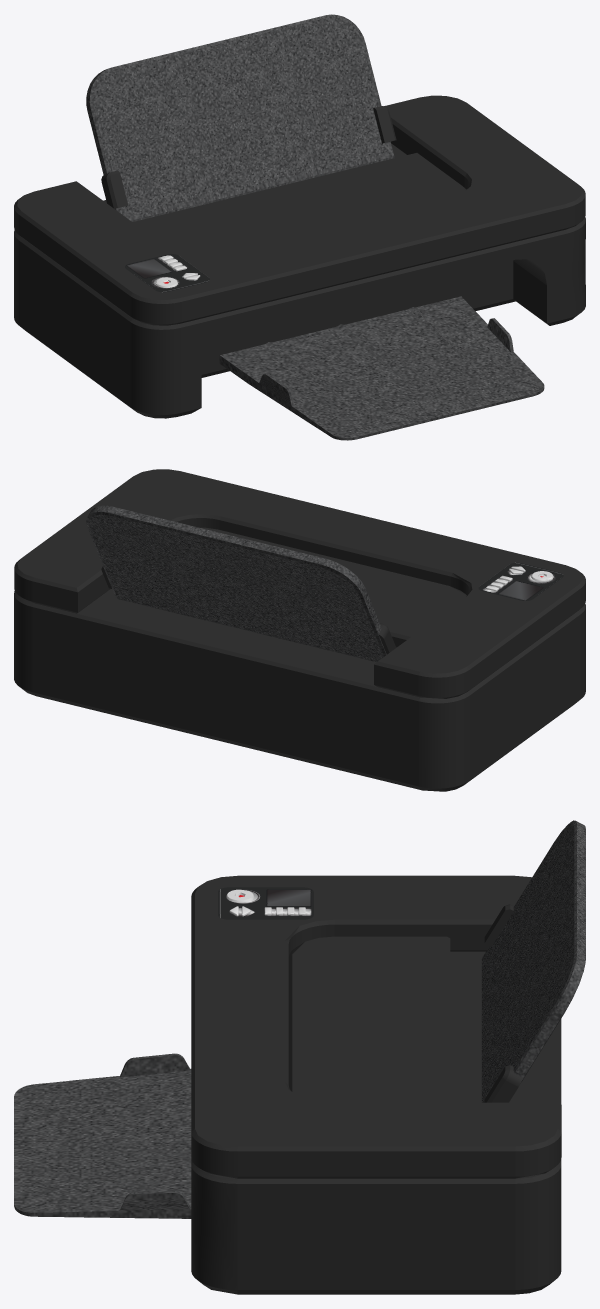
File: Impresora.glb
3 views of the same model, one above another, from view 1: azimuth 30°, elevation 25°; view 2: azimuth 150°, elevation 25°; view 3: azimuth 270°, elevation 25° (orthographic). The views are drawn at different scales.
Visible parts, largest first — view 1: 5045dc51-25d3-4024-b034-c51e13527c2f, 5a2b0820-ca72-492c-9d05-e0dbe57b0f30, aba4cf1b-0ed3-41aa-9967-8d33d5e2bcb0, 382af3eb-fbe7-4eb0-aeec-4cc101830f9f, 29dde0a9-a03f-42b6-8577-5029bc5500b6, 04975d88-8e78-464b-82ff-5533f90e08f5, 33a311e4-f1b9-4ab6-9762-b28a2da75d25, e38eac0d-4c66-485f-b47b-e6bae7698795; view 2: aba4cf1b-0ed3-41aa-9967-8d33d5e2bcb0, 5045dc51-25d3-4024-b034-c51e13527c2f, 5a2b0820-ca72-492c-9d05-e0dbe57b0f30, 29dde0a9-a03f-42b6-8577-5029bc5500b6, 04975d88-8e78-464b-82ff-5533f90e08f5; view 3: 5045dc51-25d3-4024-b034-c51e13527c2f, aba4cf1b-0ed3-41aa-9967-8d33d5e2bcb0, 29dde0a9-a03f-42b6-8577-5029bc5500b6, 382af3eb-fbe7-4eb0-aeec-4cc101830f9f, 5a2b0820-ca72-492c-9d05-e0dbe57b0f30, 04975d88-8e78-464b-82ff-5533f90e08f5, e38eac0d-4c66-485f-b47b-e6bae7698795.
Part boxes in pixels (bbox=[...]): 5045dc51-25d3-4024-b034-c51e13527c2f: bbox=[14, 95, 585, 325]; 5a2b0820-ca72-492c-9d05-e0dbe57b0f30: bbox=[86, 14, 394, 221]; aba4cf1b-0ed3-41aa-9967-8d33d5e2bcb0: bbox=[14, 143, 585, 418]; 382af3eb-fbe7-4eb0-aeec-4cc101830f9f: bbox=[219, 296, 544, 440]; 29dde0a9-a03f-42b6-8577-5029bc5500b6: bbox=[132, 153, 466, 254]; 04975d88-8e78-464b-82ff-5533f90e08f5: bbox=[125, 254, 209, 292]; 33a311e4-f1b9-4ab6-9762-b28a2da75d25: bbox=[101, 170, 128, 208]; e38eac0d-4c66-485f-b47b-e6bae7698795: bbox=[373, 106, 396, 143]; aba4cf1b-0ed3-41aa-9967-8d33d5e2bcb0: bbox=[14, 589, 585, 791]; 5045dc51-25d3-4024-b034-c51e13527c2f: bbox=[14, 469, 585, 698]; 5a2b0820-ca72-492c-9d05-e0dbe57b0f30: bbox=[86, 505, 386, 662]; 29dde0a9-a03f-42b6-8577-5029bc5500b6: bbox=[200, 527, 466, 647]; 04975d88-8e78-464b-82ff-5533f90e08f5: bbox=[478, 562, 563, 600]; 5045dc51-25d3-4024-b034-c51e13527c2f: bbox=[191, 875, 561, 1178]; aba4cf1b-0ed3-41aa-9967-8d33d5e2bcb0: bbox=[191, 951, 561, 1294]; 29dde0a9-a03f-42b6-8577-5029bc5500b6: bbox=[288, 936, 450, 1102]; 382af3eb-fbe7-4eb0-aeec-4cc101830f9f: bbox=[14, 1053, 191, 1218]; 5a2b0820-ca72-492c-9d05-e0dbe57b0f30: bbox=[481, 820, 585, 1102]; 04975d88-8e78-464b-82ff-5533f90e08f5: bbox=[218, 887, 313, 919]; e38eac0d-4c66-485f-b47b-e6bae7698795: bbox=[484, 1065, 522, 1102].
Size of the model in its own units: 0.3852 by 0.1781 by 0.3397.
Materials: 4 (2 with a texture image).
